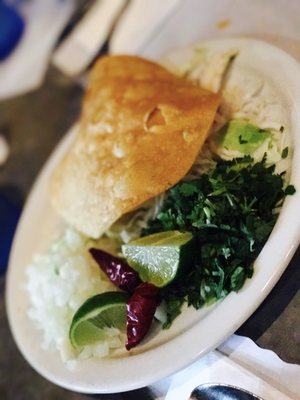soup: (3, 44, 264, 392)
